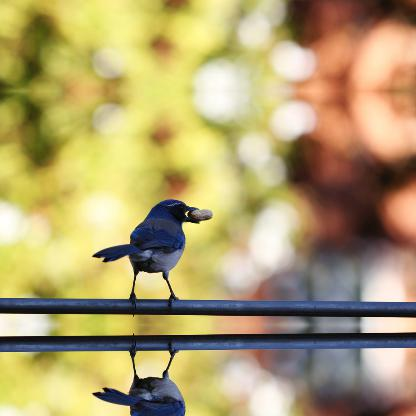Bird: (88, 196, 202, 312), (88, 337, 202, 415)
